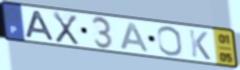3: (90, 15, 114, 51)
A: (24, 10, 57, 43), (119, 21, 151, 54)
K: (187, 28, 213, 62)
O: (156, 25, 185, 58)
X: (52, 10, 81, 47)
